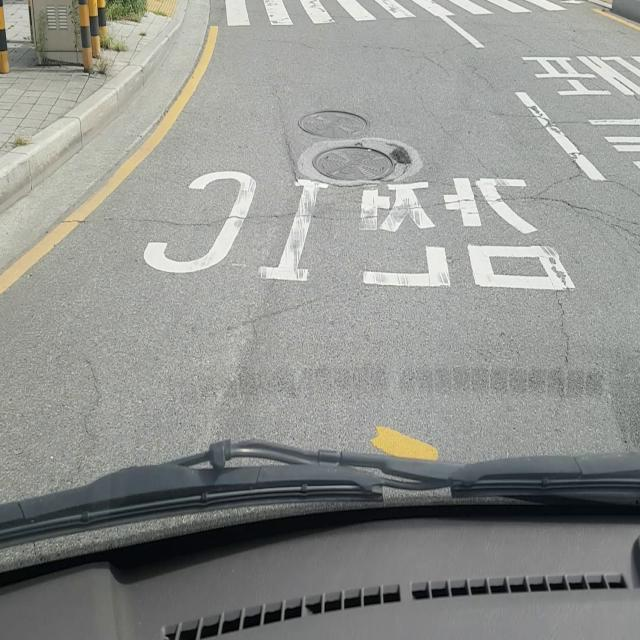pothole: (309, 141, 416, 187)
